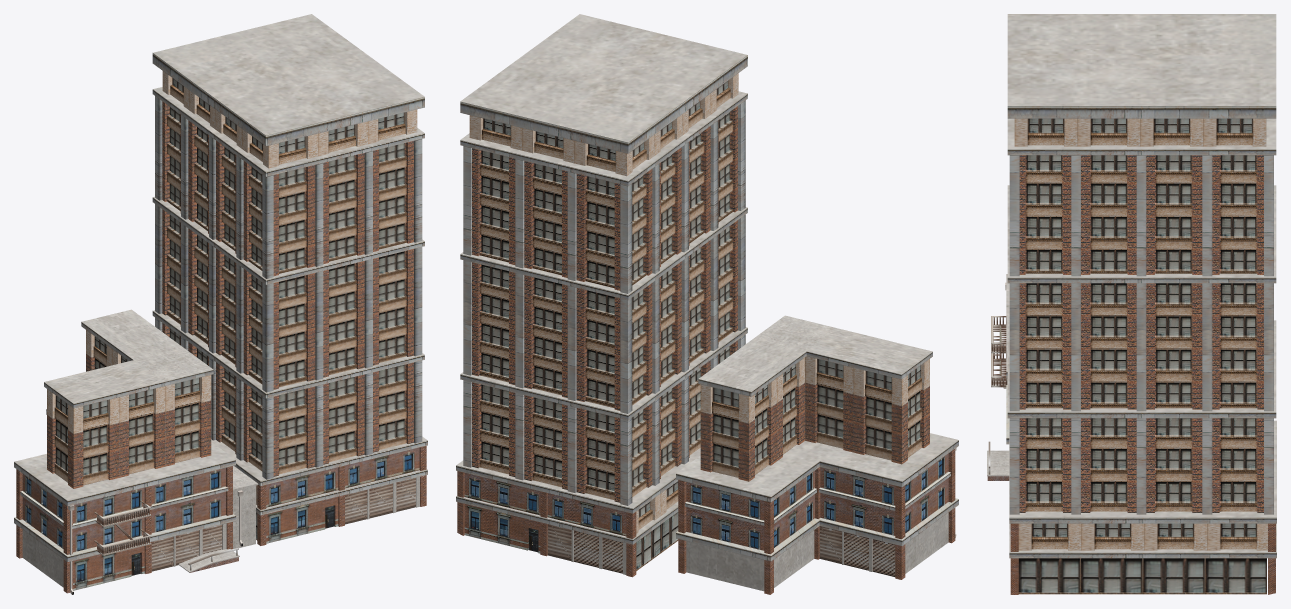
The model's file is atlas.fbx.
The picture shows the model from 3 angles, left to right: view 1: azimuth 30°, elevation 25°; view 2: azimuth 150°, elevation 25°; view 3: azimuth 270°, elevation 25°; orthographic projection. The views are drawn at different scales.
Parts seen in each view (by area): view 1: Object_54; view 2: Object_54; view 3: Object_54.
Part boxes in pixels (box(x1,y1,x2,y2)): Object_54: box(14, 14, 427, 594); Object_54: box(456, 14, 958, 594); Object_54: box(987, 14, 1276, 594).
Size of the model in its own units: 1869 by 2028 by 1093.
1 material, 1 textured.
